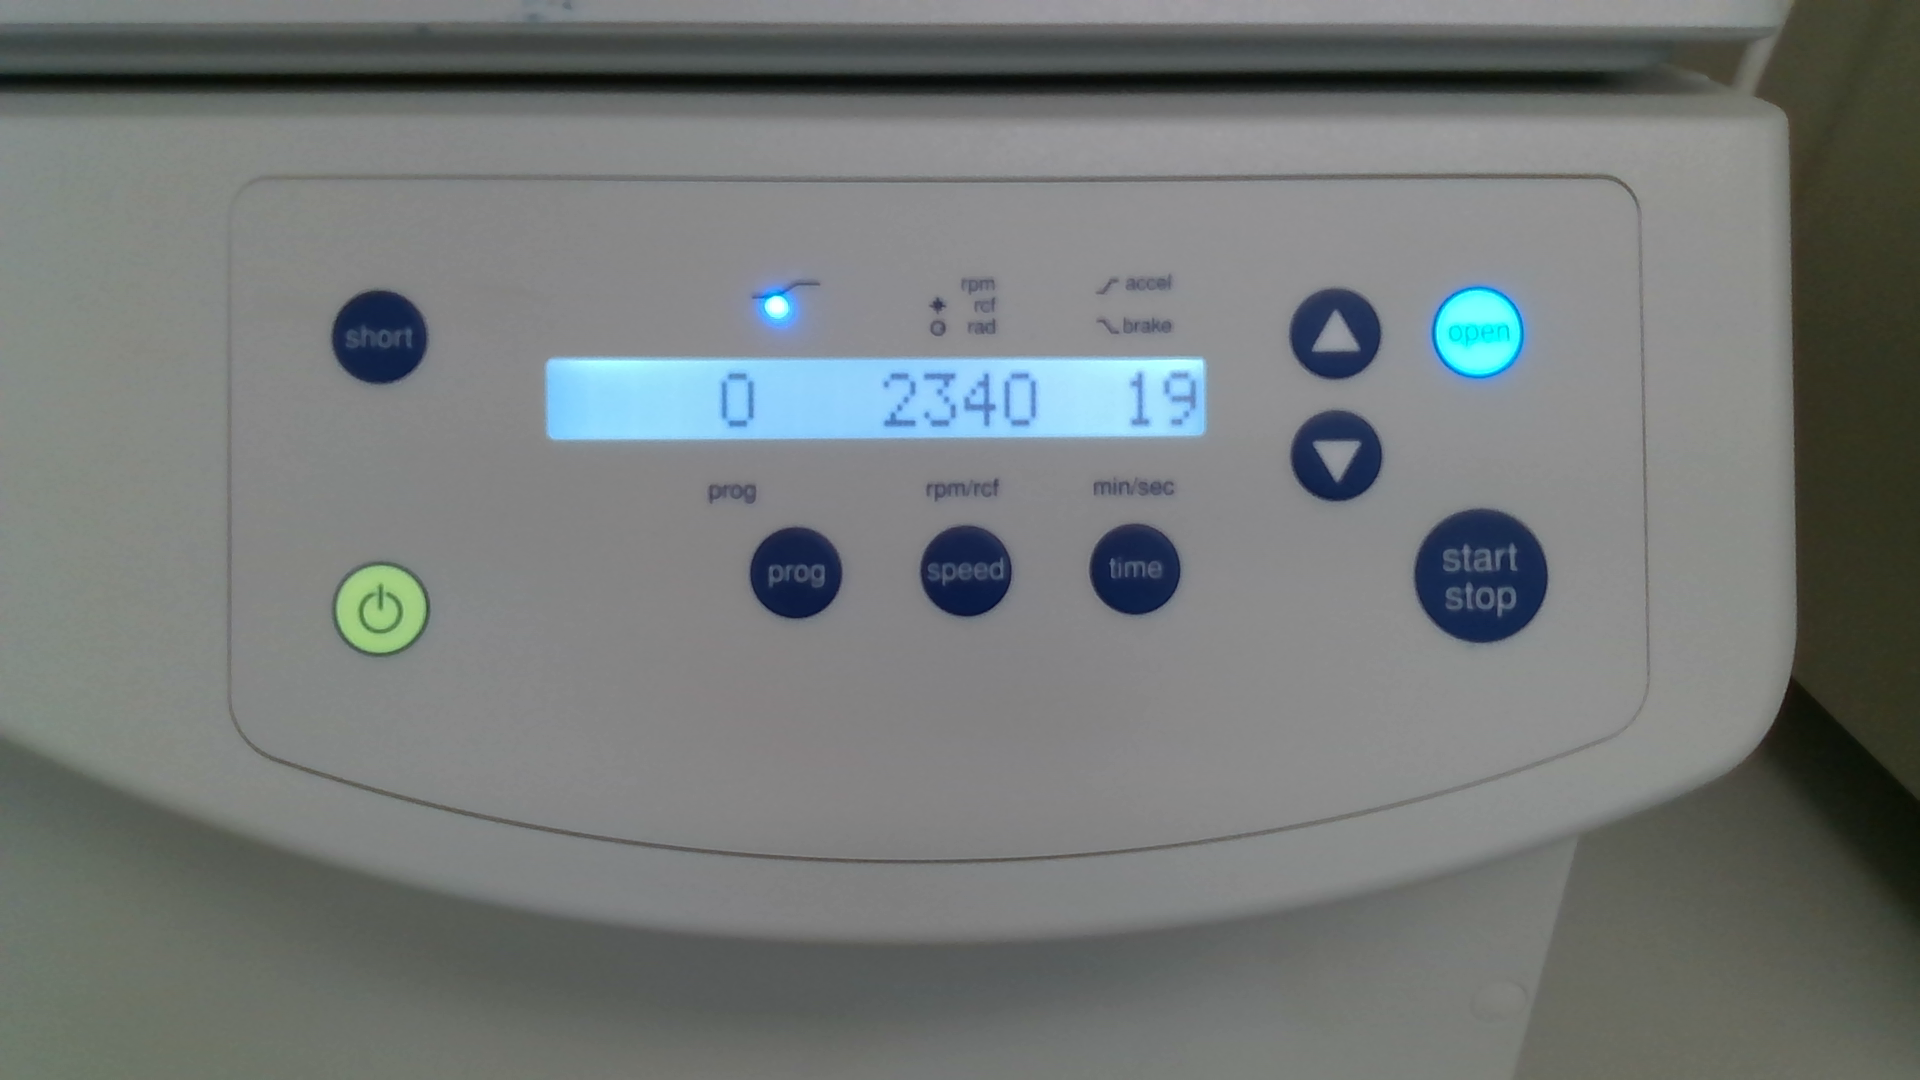0: (721, 373, 754, 427), (1004, 373, 1036, 427)
1: (1130, 371, 1150, 426)
2: (884, 373, 916, 427)
3: (923, 372, 957, 427)
4: (963, 373, 996, 427)
9: (1164, 372, 1196, 426)
open_on: (1431, 285, 1524, 380)
power_on: (331, 560, 433, 659)
